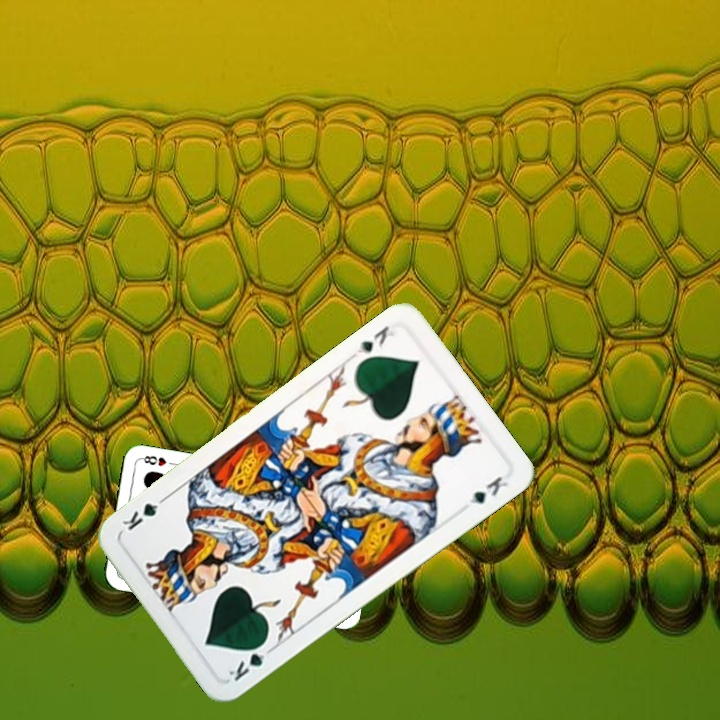GK: (224, 637, 277, 684), (353, 321, 398, 357)
